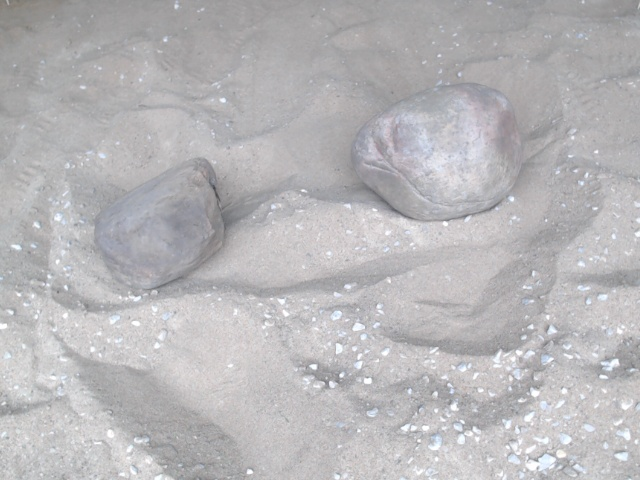rock: (345, 76, 526, 229), (89, 151, 231, 298)
